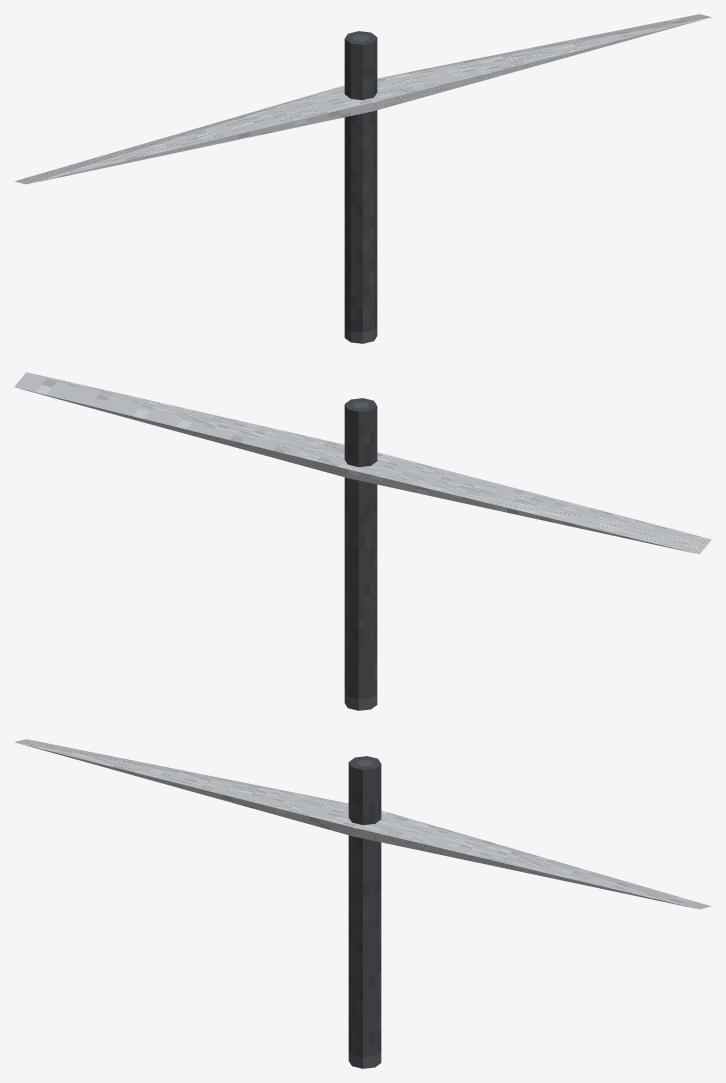
The model's file is tr_blade.glb.
3 views of the same model, one above another, from view 1: azimuth 30°, elevation 25°; view 2: azimuth 150°, elevation 25°; view 3: azimuth 330°, elevation 25° (orthographic).
Parts seen in each view (by area): view 1: block_blade (×2), block_shaft; view 2: block_blade (×2), block_shaft; view 3: block_blade (×2), block_shaft.
Part boxes in pixels (x1,y1,x2,y2): block_blade (×2): [14, 14, 711, 184]; block_shaft: [344, 31, 377, 343]; block_blade (×2): [14, 372, 711, 554]; block_shaft: [344, 398, 377, 710]; block_blade (×2): [14, 739, 711, 909]; block_shaft: [348, 756, 381, 1068].
Size of the model in its own units: 0.96 by 0.4 by 0.06.
Materials: 1 (1 with a texture image).
